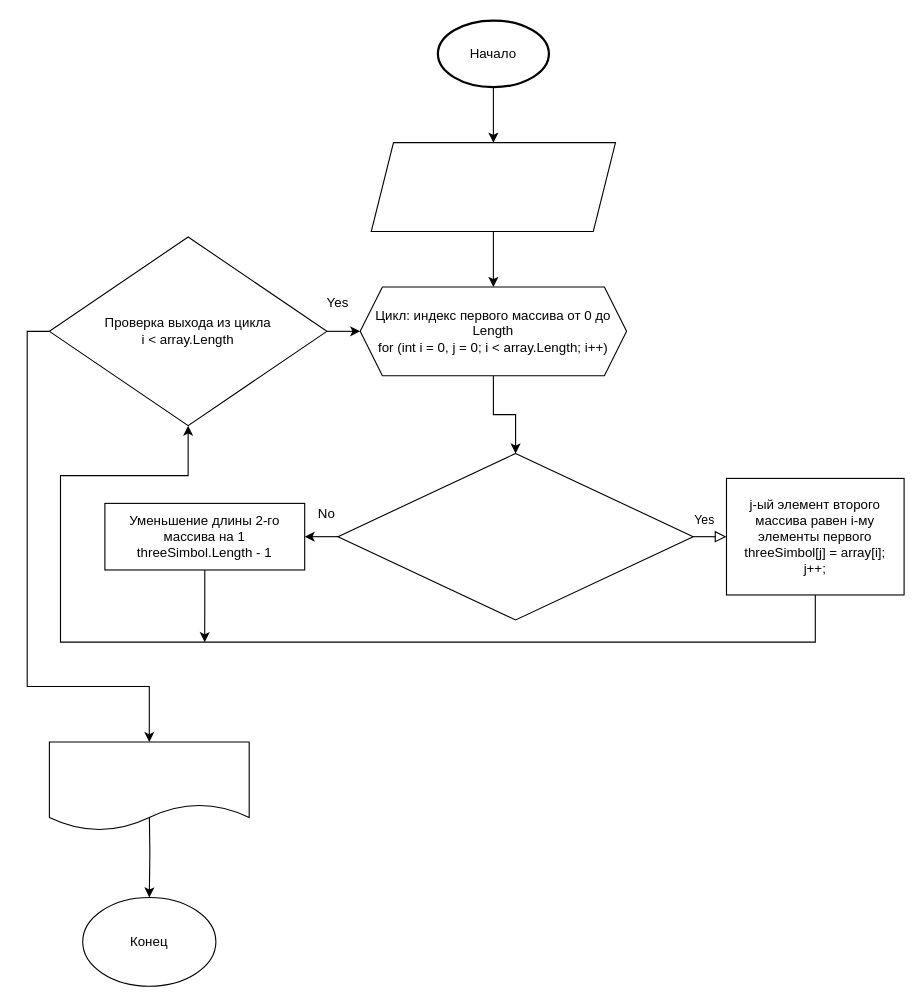
Some shapes in this 924 by 1006 pixel diagram are drawn without their labels. Each missing label, with the centre of its shape:
"Ввод массивов userArray ThreeSimbol(userArray)" goes at (492,186).
"Вывод второго массива threeSimbol" goes at (148,786).
"если длина i-го элемента меньше или равна 3. if (array[i].Length <= 3)" goes at (515,536).
